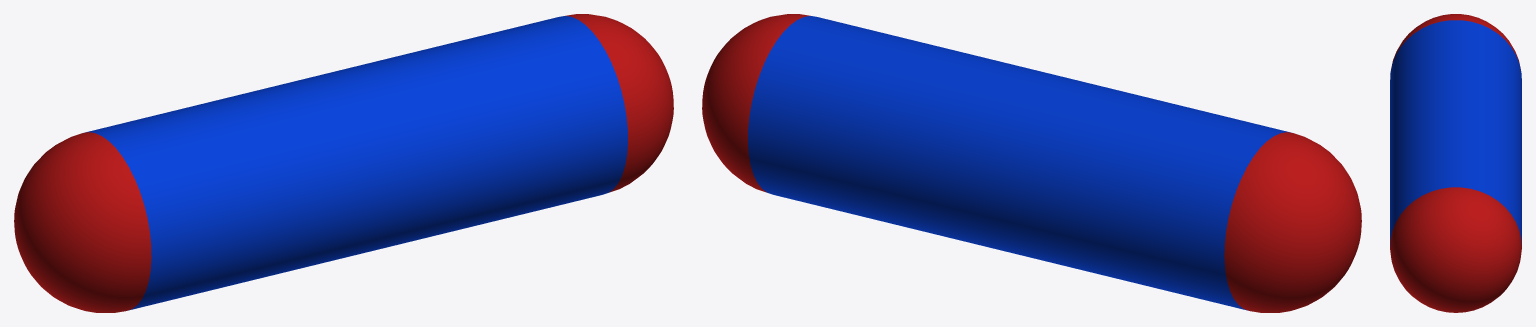
The model's file is Pill.glb.
The picture shows the model from 3 angles, left to right: view 1: azimuth 30°, elevation 25°; view 2: azimuth 150°, elevation 25°; view 3: azimuth 270°, elevation 25°; orthographic projection. The views are drawn at different scales.
Parts seen in each view (by area): view 1: Part 2, Part; view 2: Part 2, Part; view 3: Part 2, Part.
Boxes of the visible parts, x1,y1,x2,y2 form: Part 2: [85, 16, 627, 310]; Part: [14, 14, 673, 312]; Part 2: [748, 16, 1290, 310]; Part: [702, 14, 1361, 312]; Part 2: [1390, 20, 1521, 246]; Part: [1390, 14, 1521, 312].
Bounding box in the file's own units: 0.0508 × 0.0127 × 0.0127.
